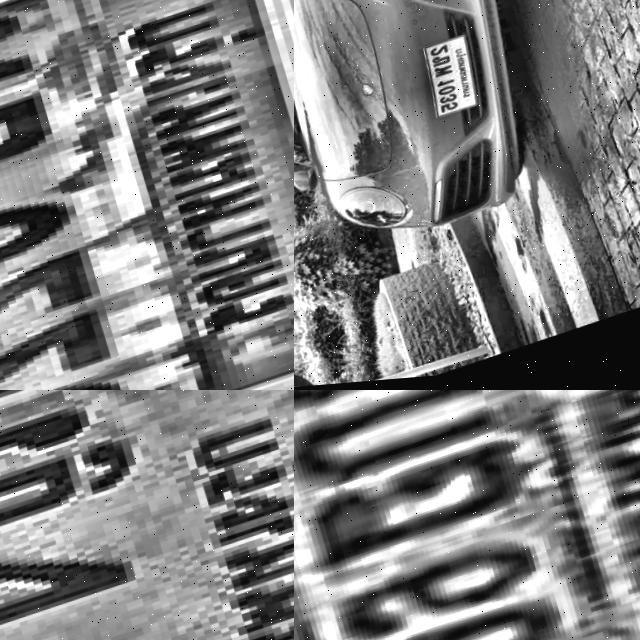license-plate: (0, 0, 294, 390), (294, 390, 640, 640), (0, 390, 294, 640), (406, 33, 488, 132)
